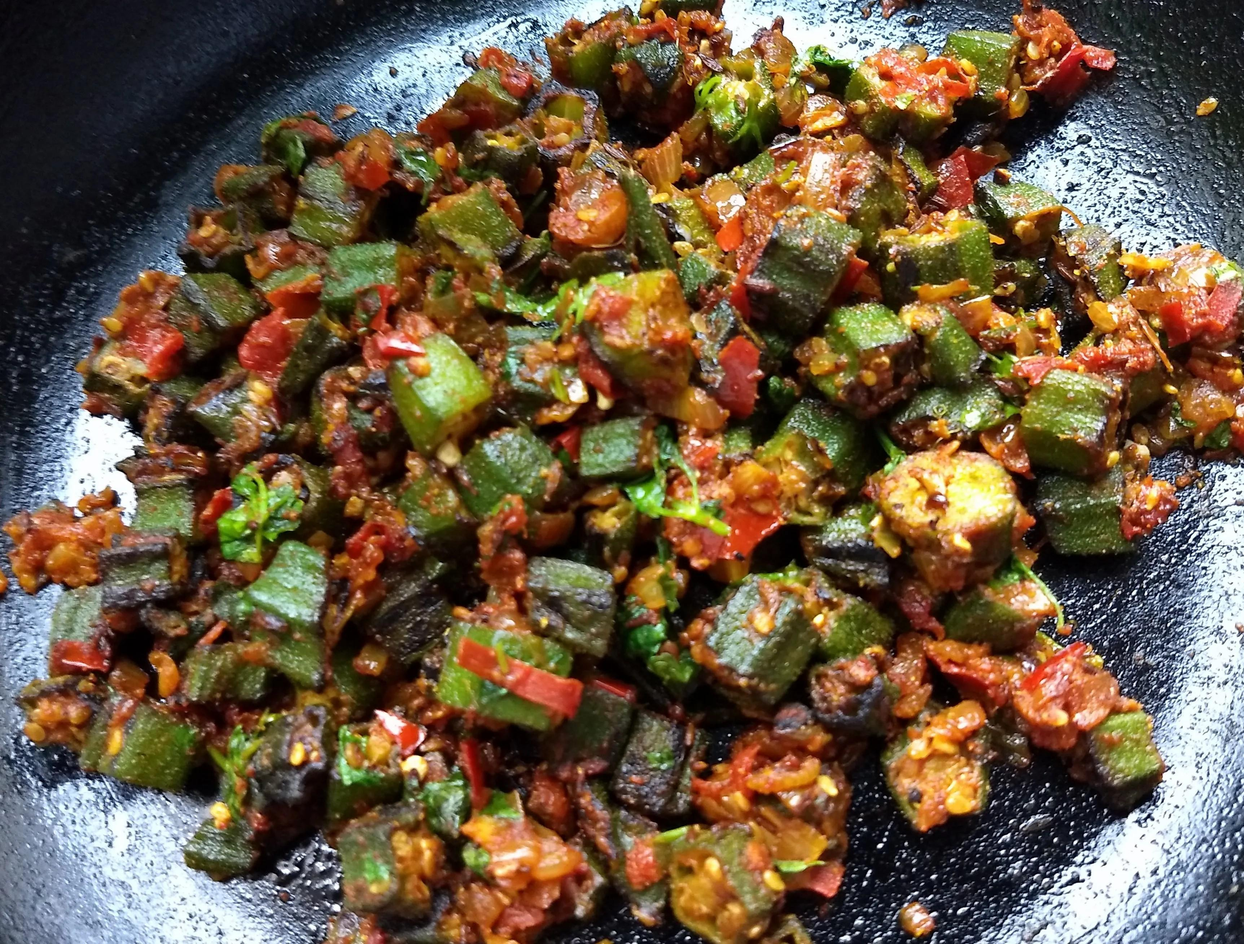BhindiMasala: (2, 0, 1244, 944)
